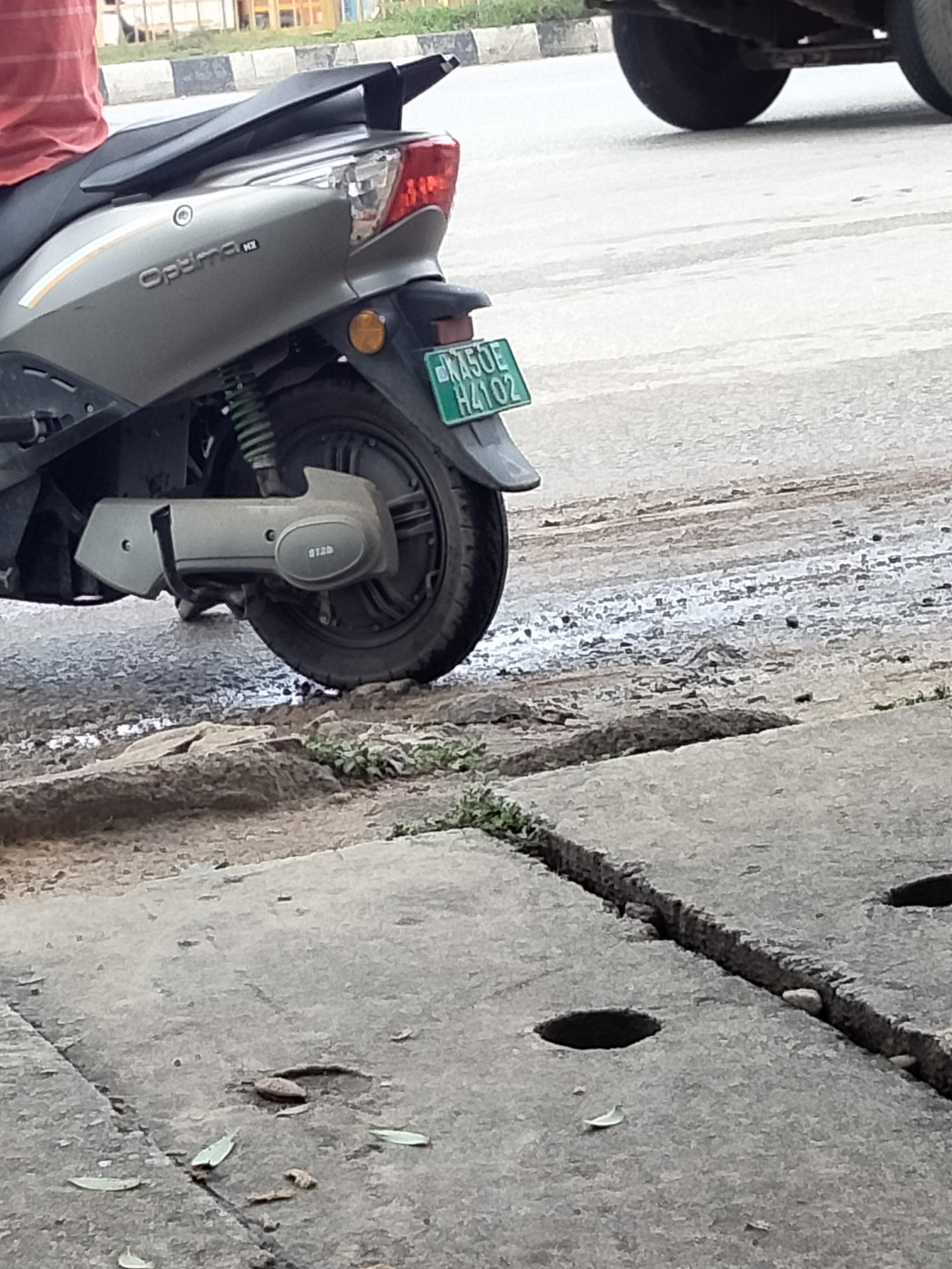green license plate: (422, 332, 534, 434)
